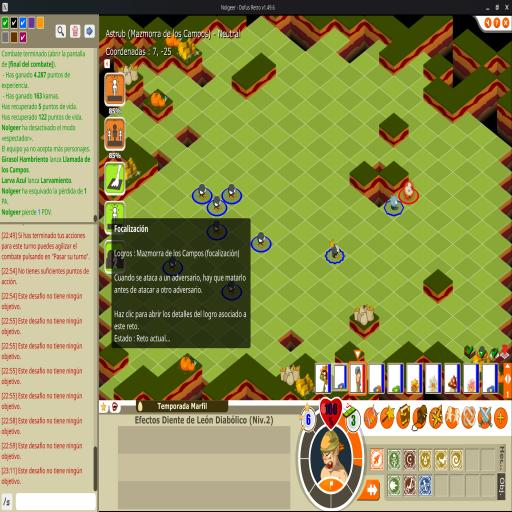Enemigos: (329, 238, 340, 259), (389, 192, 399, 211), (227, 279, 238, 296), (227, 183, 238, 200), (212, 220, 223, 236), (212, 196, 223, 212), (257, 232, 267, 248), (168, 256, 178, 272), (198, 184, 208, 200)
Personaje: (403, 180, 415, 200)
